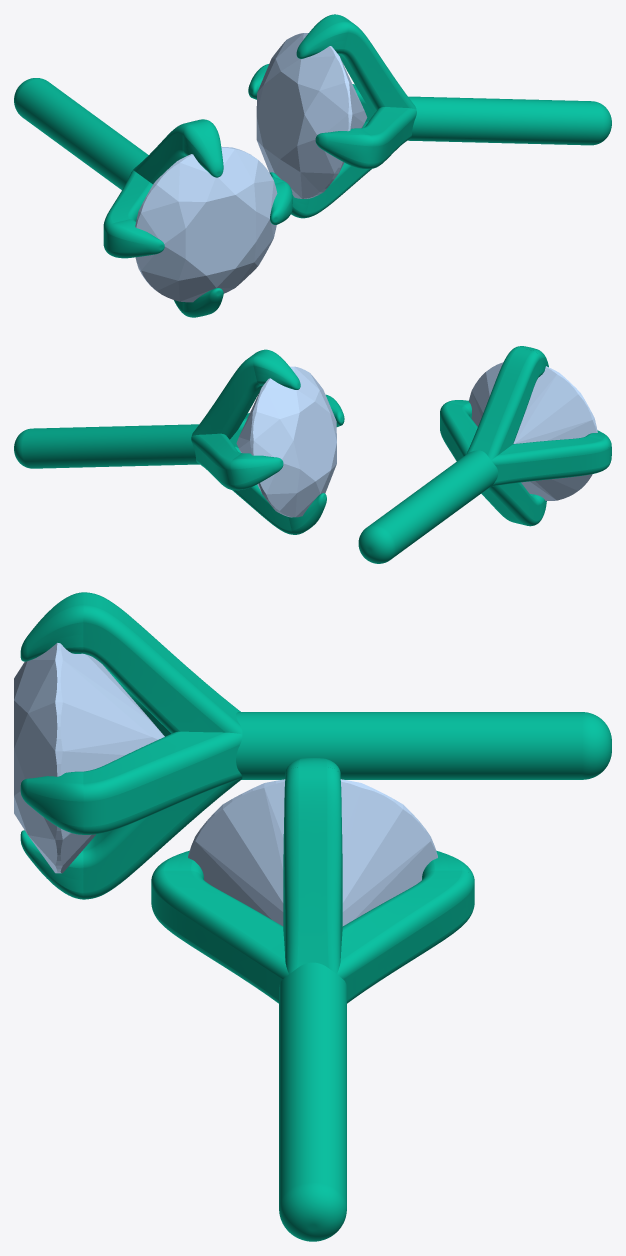
3 views of the same model, one above another, from view 1: azimuth 30°, elevation 25°; view 2: azimuth 150°, elevation 25°; view 3: azimuth 270°, elevation 25° (orthographic). The views are drawn at different scales.
Parts seen in each view (by area): view 1: VEAR701.3dm, Diamond_Round (×2); view 2: VEAR701.3dm, Diamond_Round (×2); view 3: VEAR701.3dm, Diamond_Round (×2).
Boxes of the visible parts, x1,y1,x2,y2 form: VEAR701.3dm: (14,14,611,317); Diamond_Round (×2): (135,33,367,302); VEAR701.3dm: (14,346,611,563); Diamond_Round (×2): (236,362,597,517); VEAR701.3dm: (20,592,611,1241); Diamond_Round (×2): (14,643,437,926).
Size of the model in its own units: 3.33 by 1.06 by 1.95.
